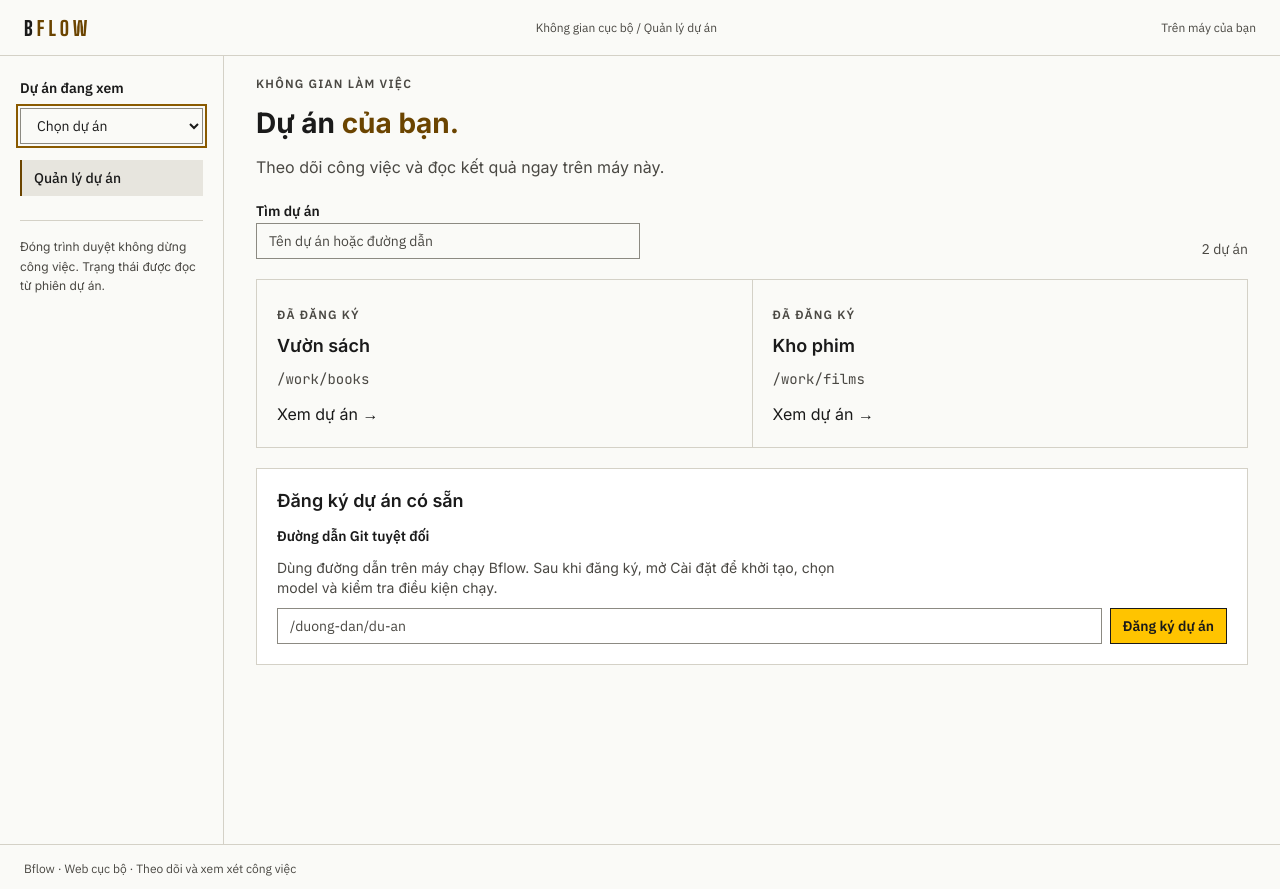
Test: switches project using the native keyboard accessible select
This screenshot has width=1280, height=889.
Select "Kho phim" in the dropdown labelled "Dự án đang xem" at (112, 126), box [20,108,203,144]
(page scrolled)
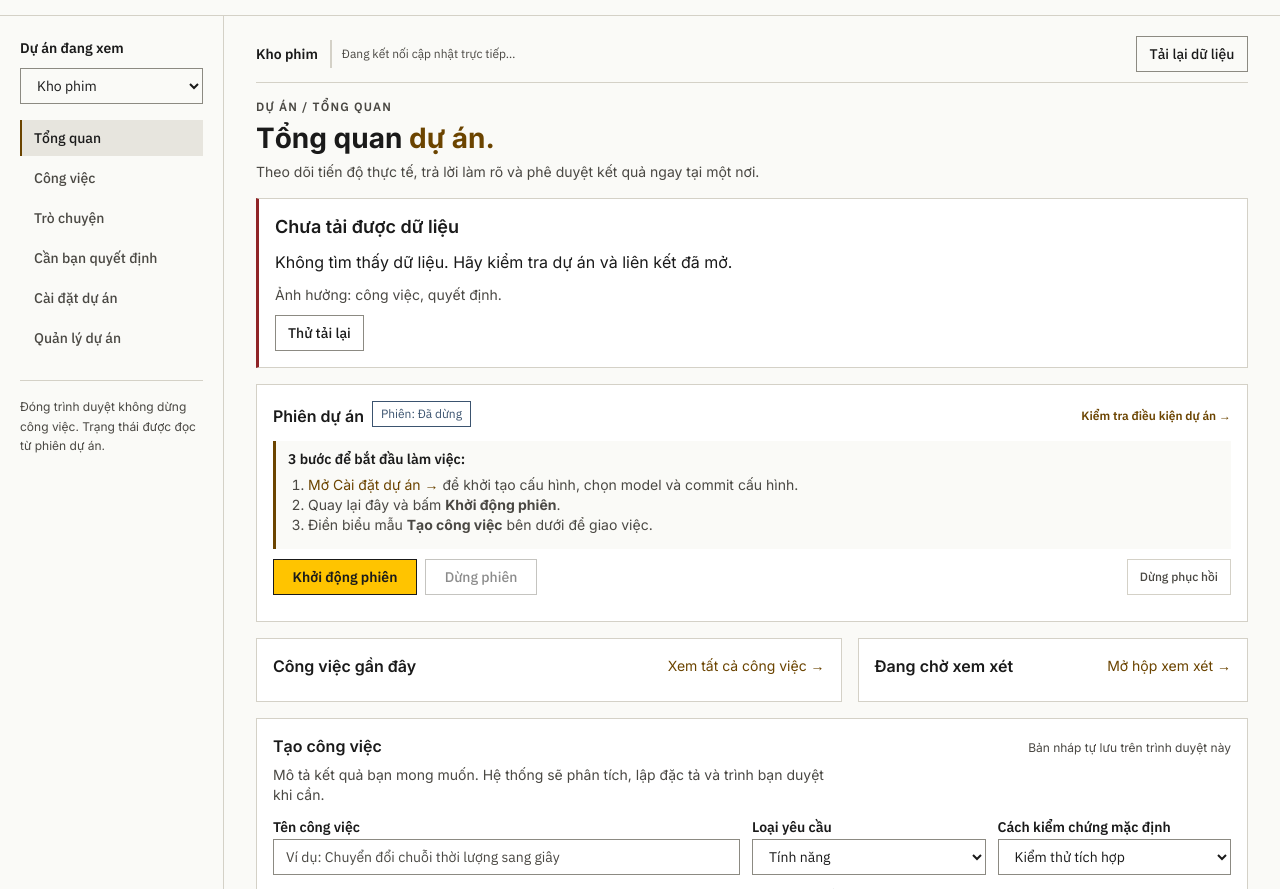
Result: the text "Phiên: Đã dừng" is shown at [372,401,471,427]
